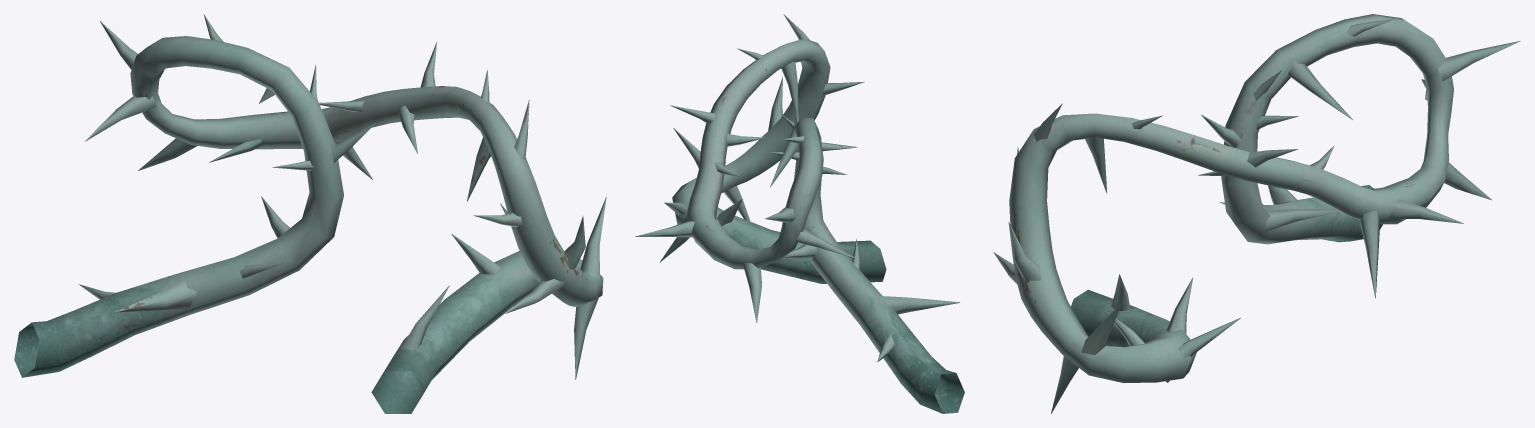
File: abstract-fantasy-deco.fbx
3 renders of one model, left to right at view 1: azimuth 30°, elevation 25°; view 2: azimuth 150°, elevation 25°; view 3: azimuth 270°, elevation 25°, orthographic. The views are drawn at different scales.
Visible parts, largest first — view 1: thing-04_b; view 2: thing-04_b; view 3: thing-04_b.
Part boxes in pixels (box(x1,y1,x2,y2)): thing-04_b: box(14, 14, 606, 413); thing-04_b: box(635, 14, 964, 413); thing-04_b: box(993, 14, 1520, 413).
Size of the model in its own units: 252 by 155 by 242.
1 material, 1 textured.
